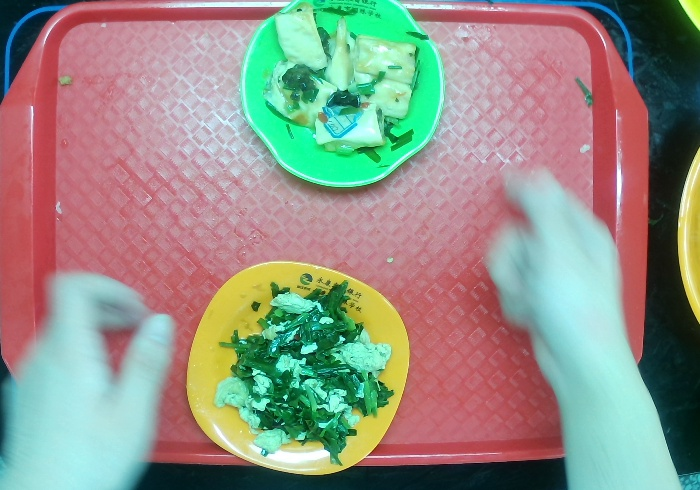YKMZ-Ju_Se_Fang_Die: (187, 260, 411, 476)
YKMZ-Lv_Se_Ao_Bian_Wan: (237, 1, 446, 190)
